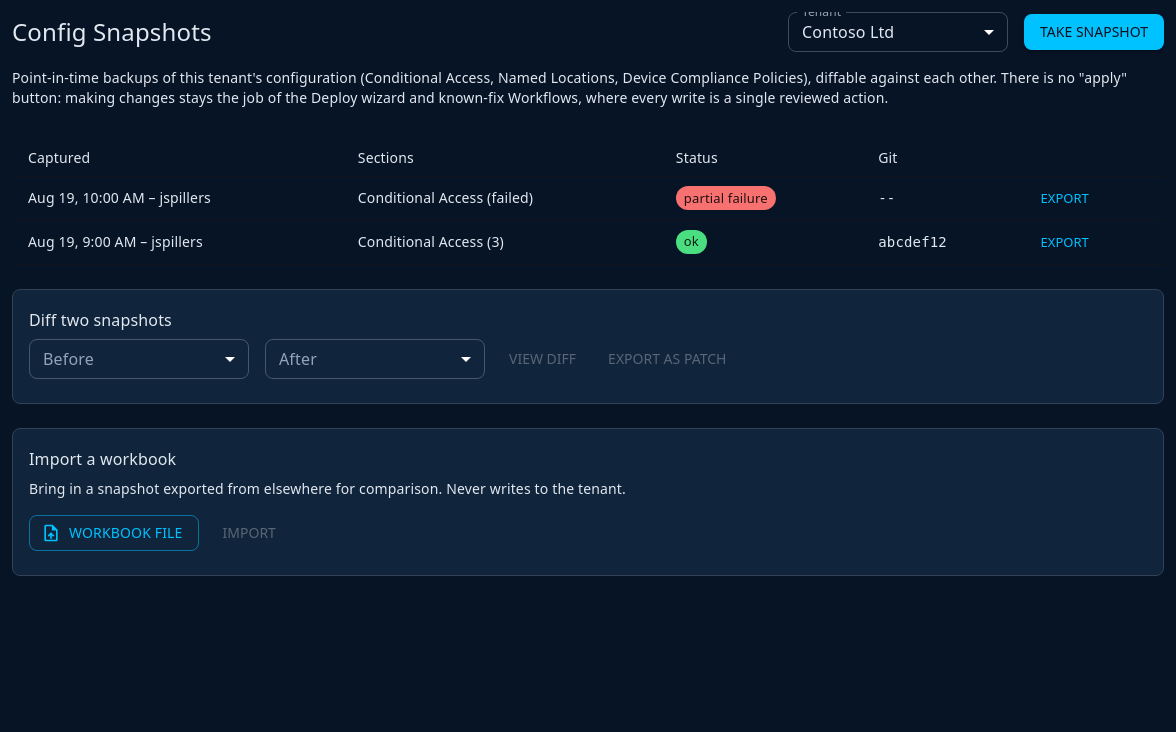
ConfigSnapshots › captures a snapshot, reloads the runs list, and shows a success toast
This screenshot has width=1176, height=732.
Expected: the text "Conditional Access (3)" is shown, [342,220,660,264]
What coordinates should you click on to do the following:
click the button "Take Snapshot"
I would click on:
 (1094, 32)
Its box is [1024,14,1164,50].
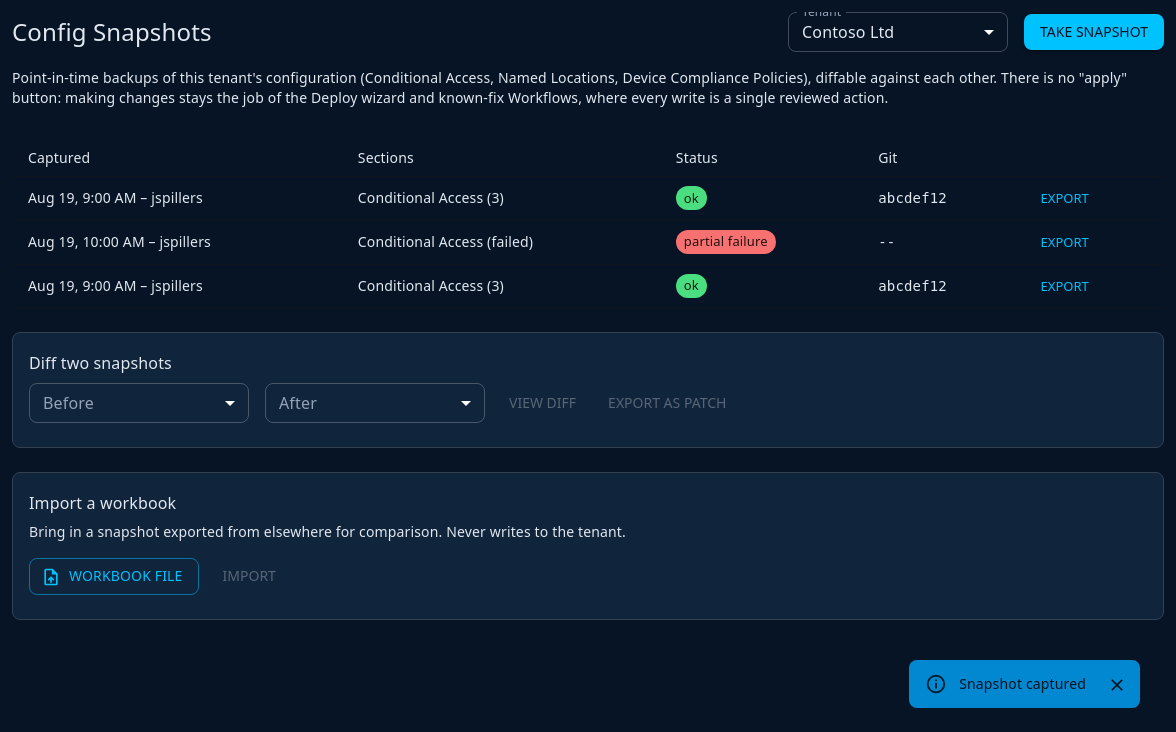
Now the text "Snapshot captured" is shown, box [959,674,1086,693]
